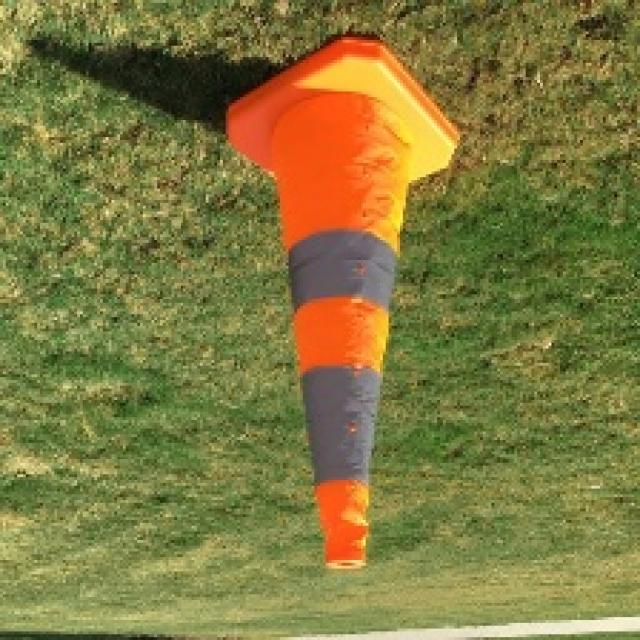cone: (220, 36, 465, 574)
